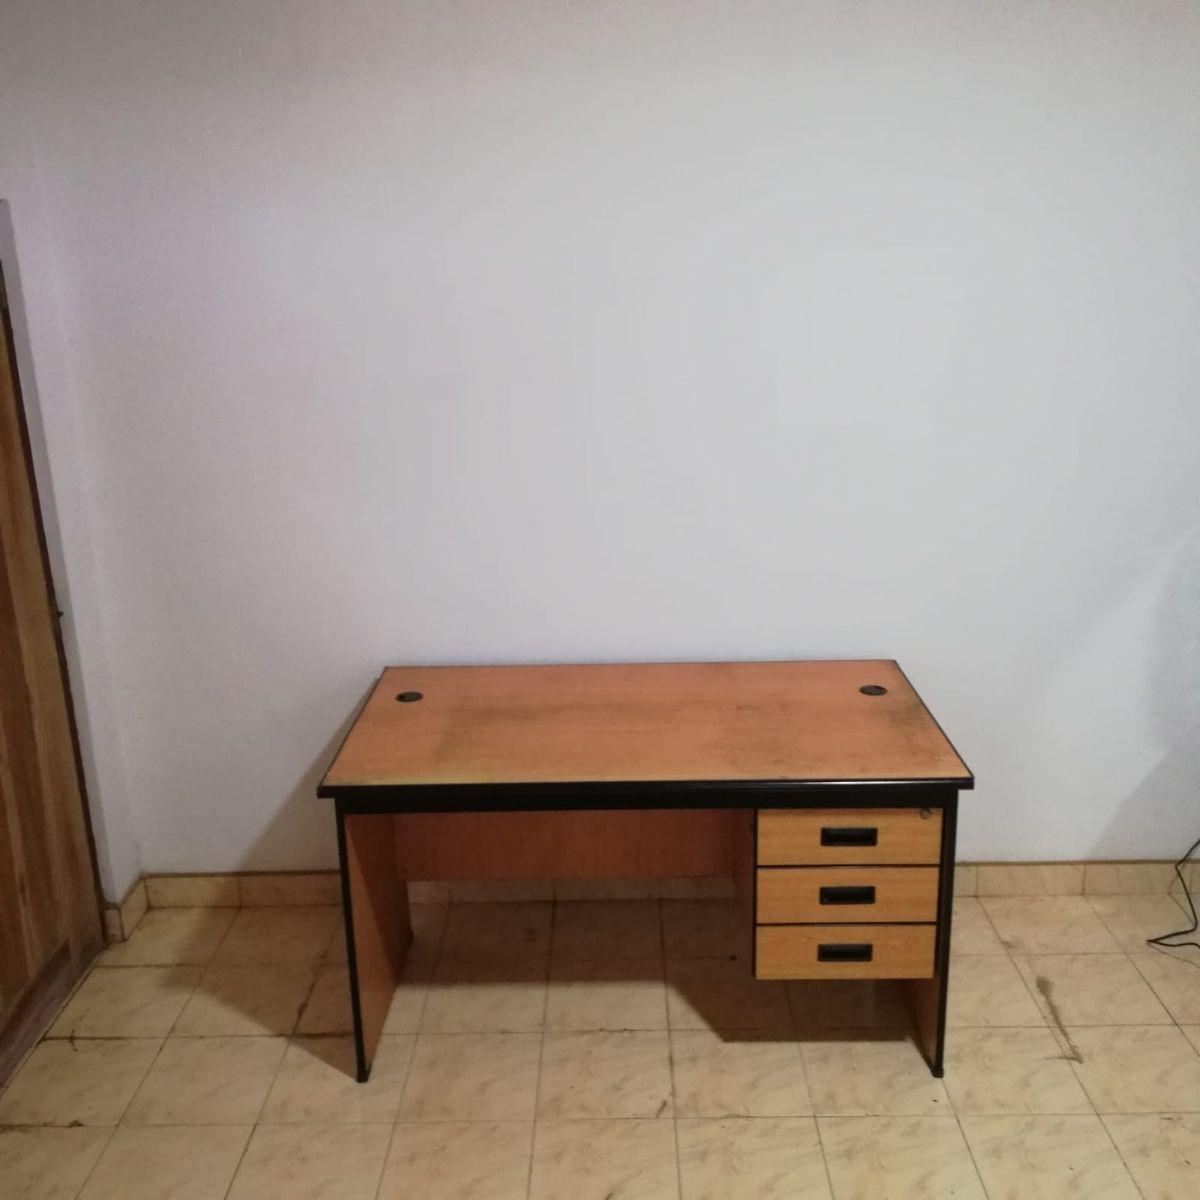Table: (269, 641, 1025, 1104)
